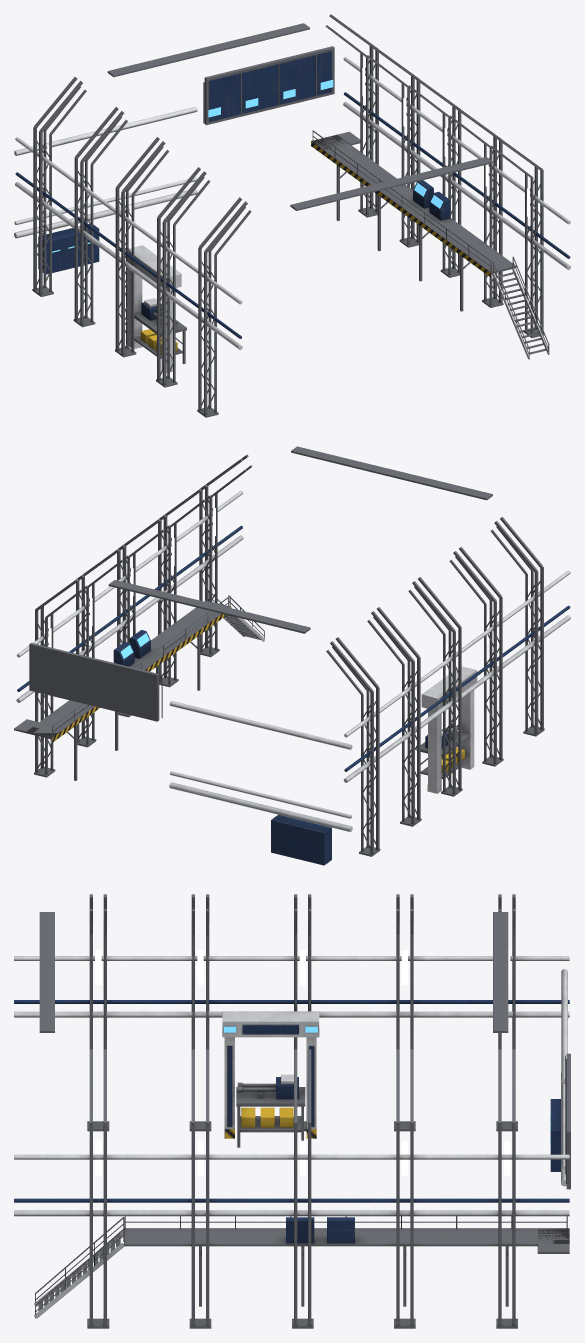
The model's file is 整備庫_43_戰艦庫_內部.glb.
The picture shows the model from 3 angles, top to bottom: view 1: azimuth 30°, elevation 25°; view 2: azimuth 150°, elevation 25°; view 3: azimuth 270°, elevation 25°; orthographic projection. The views are drawn at different scales.
Visible parts, largest first — view 1: Hall_fit_bay_Mesh; view 2: Hall_fit_bay_Mesh; view 3: Hall_fit_bay_Mesh.
Boxes of the visible parts, x1,y1,x2,y2 form: Hall_fit_bay_Mesh: [14, 14, 570, 417]; Hall_fit_bay_Mesh: [14, 446, 570, 865]; Hall_fit_bay_Mesh: [14, 894, 570, 1328].
Size of the model in its own units: 38 by 22.01 by 43.6.
3 materials, 1 textured.
